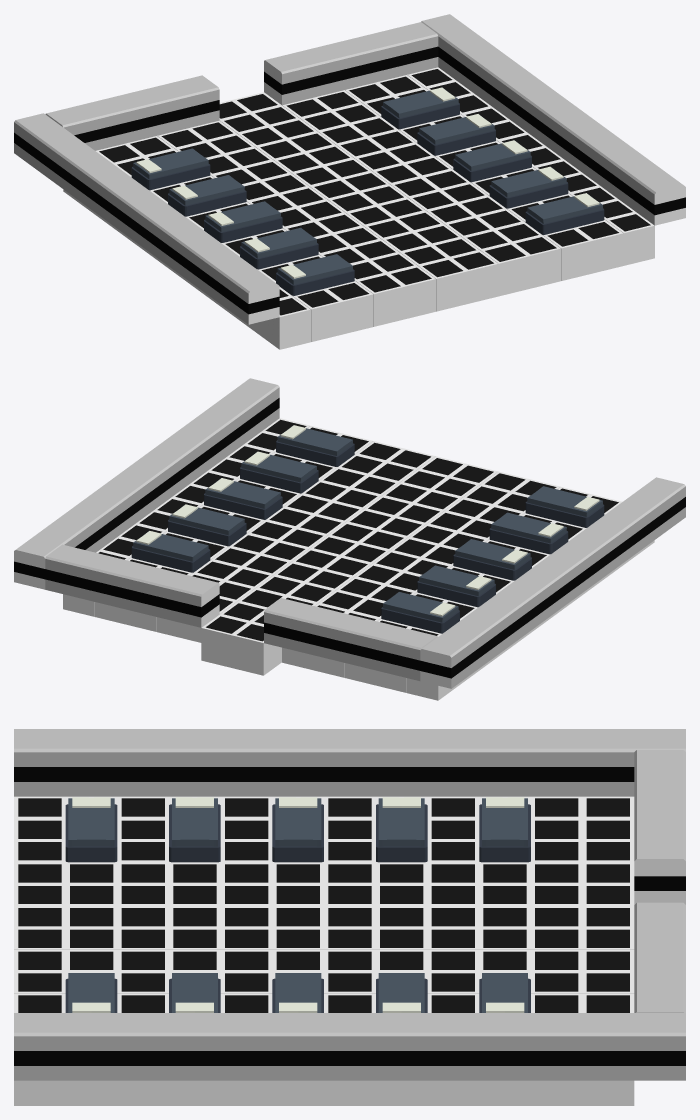
Rendered from bedroomSmall0.fbx.
The picture shows the model from 3 angles, top to bottom: view 1: azimuth 30°, elevation 25°; view 2: azimuth 150°, elevation 25°; view 3: azimuth 270°, elevation 25°; orthographic projection. The views are drawn at different scales.
Parts seen in each view (by area): view 1: Cube.007, Cube.006, Cube.009, Cube, Cube.005, Cube.010, Cube.008, Cube.003, Cube.004, Cube.001, Cube.168, Cube.183 (+108 smaller); view 2: Cube.010, Cube, Cube.001, Cube.007, Cube.006, Cube.009, Cube.008, Cube.003, Cube.005, Cube.004, Cube.168, Cube.187 (+97 smaller); view 3: Cube.174, Cube.176, Cube.179, Cube.182, Cube.193, Cube.202, Cube.205, Cube.207, Cube.175, Cube.177, Cube.178, Cube.180 (+141 smaller).
Part boxes in pixels (bbox=[...]): Cube.007: bbox=[489, 166, 568, 208]; Cube.006: bbox=[525, 193, 604, 234]; Cube.009: bbox=[417, 114, 495, 155]; Cube: bbox=[276, 254, 354, 295]; Cube.005: bbox=[131, 148, 210, 190]; Cube.010: bbox=[381, 87, 459, 129]; Cube.008: bbox=[453, 140, 531, 182]; Cube.003: bbox=[204, 201, 282, 242]; Cube.004: bbox=[168, 175, 246, 216]; Cube.001: bbox=[240, 227, 318, 269]; Cube.168: bbox=[264, 52, 313, 105]; Cube.183: bbox=[230, 272, 279, 324]; Cube.010: bbox=[131, 531, 210, 572]; Cube: bbox=[525, 486, 604, 527]; Cube.001: bbox=[489, 512, 568, 554]; Cube.007: bbox=[240, 451, 318, 493]; Cube.006: bbox=[276, 425, 354, 466]; Cube.009: bbox=[168, 504, 246, 546]; Cube.008: bbox=[204, 478, 282, 519]; Cube.003: bbox=[453, 539, 531, 580]; Cube.005: bbox=[381, 592, 459, 633]; Cube.004: bbox=[417, 565, 495, 607]; Cube.168: bbox=[170, 575, 219, 627]; Cube.187: bbox=[420, 636, 469, 688]; Cube.174: bbox=[582, 729, 634, 796]; Cube.176: bbox=[427, 729, 479, 796]; Cube.179: bbox=[220, 729, 272, 796]; Cube.182: bbox=[65, 729, 117, 796]; Cube.193: bbox=[65, 1013, 117, 1080]; Cube.202: bbox=[220, 1013, 272, 1080]; Cube.205: bbox=[427, 1013, 479, 1080]; Cube.207: bbox=[582, 1013, 634, 1080]; Cube.175: bbox=[531, 729, 582, 796]; Cube.177: bbox=[479, 729, 530, 796]; Cube.178: bbox=[272, 729, 323, 796]; Cube.180: bbox=[324, 729, 375, 796].
Bounding box in the file's own units: 2800 × 400 × 2600.
